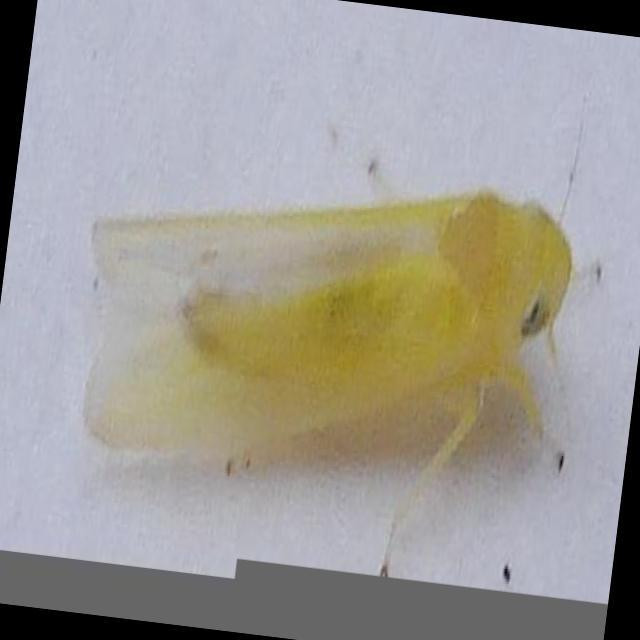green leaf hopper: (87, 191, 572, 566)
